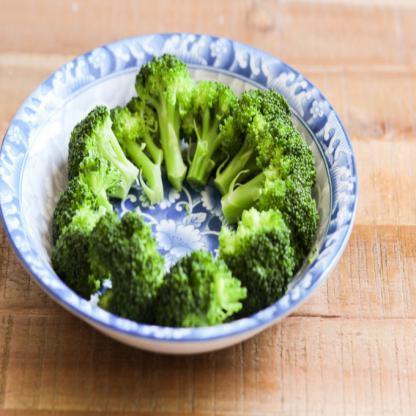broccoli: (43, 52, 320, 329)
